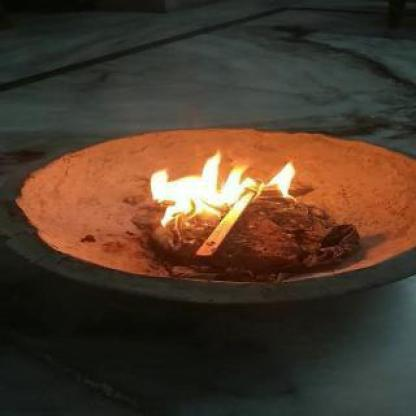fire: (145, 149, 303, 227)
